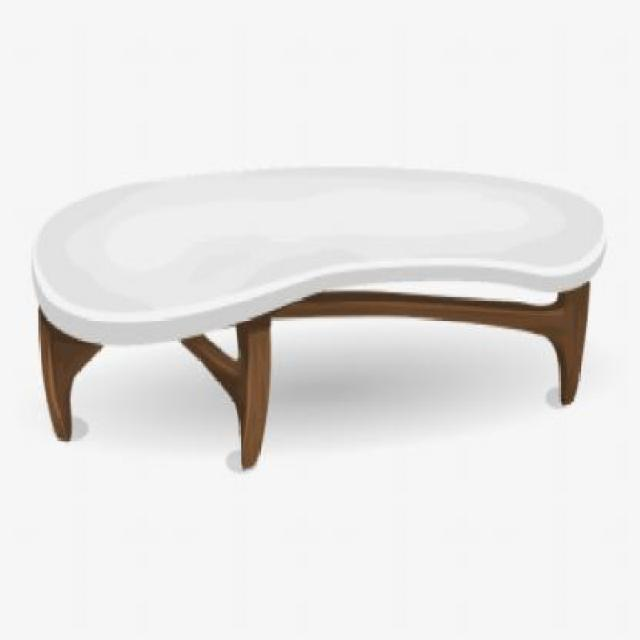table: (28, 155, 607, 474)
